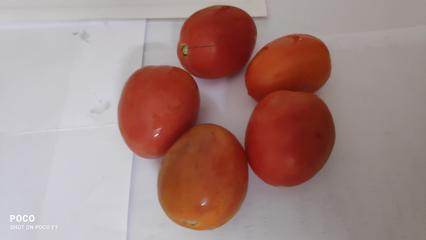tomato: (162, 112, 252, 224), (255, 92, 352, 187), (110, 55, 211, 140), (243, 38, 354, 102), (179, 7, 273, 82)
